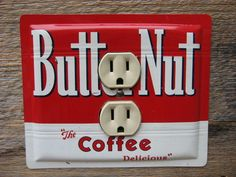outlet: (107, 58, 132, 86), (109, 108, 132, 134)
